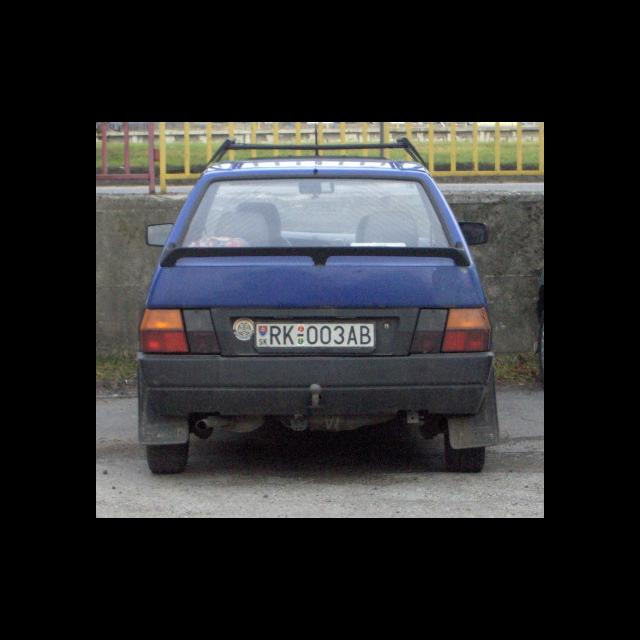Plate: (253, 319, 376, 350)
